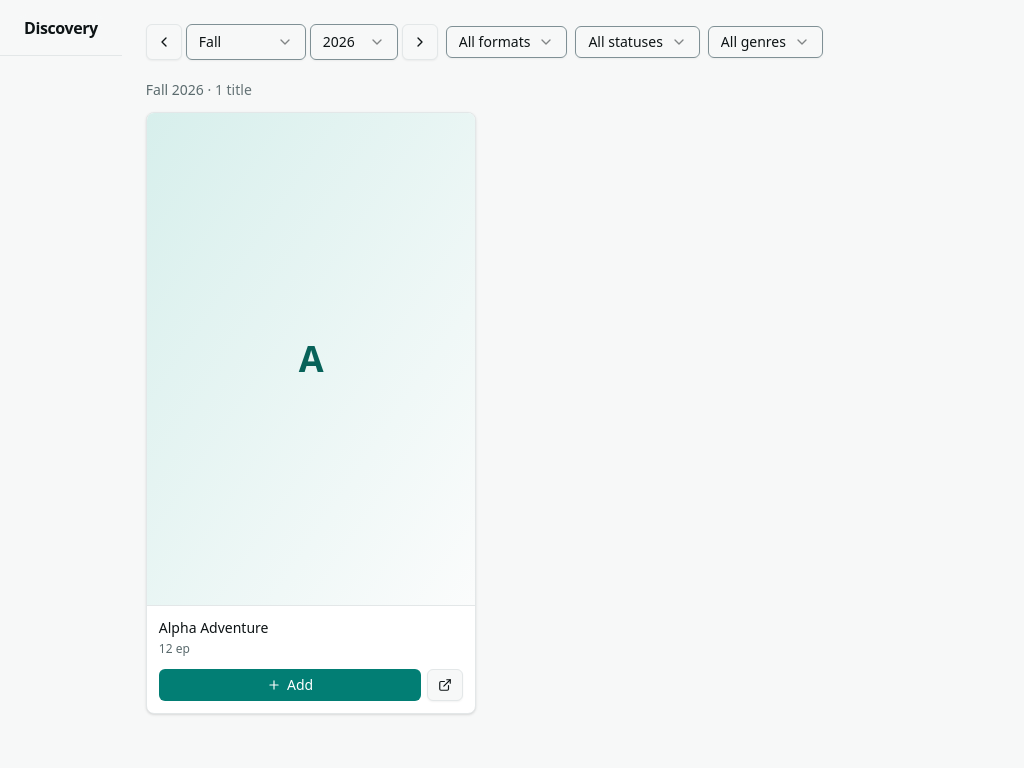
Test case: DiscoveryPage › refetches the chart for a year picked from the year menu
Expected: the text "Alpha Adventure" is shown, x1=159 y1=618 x2=268 y2=637
Click the dropdown named "Year": (354, 42) x1=310 y1=24 x2=398 y2=60
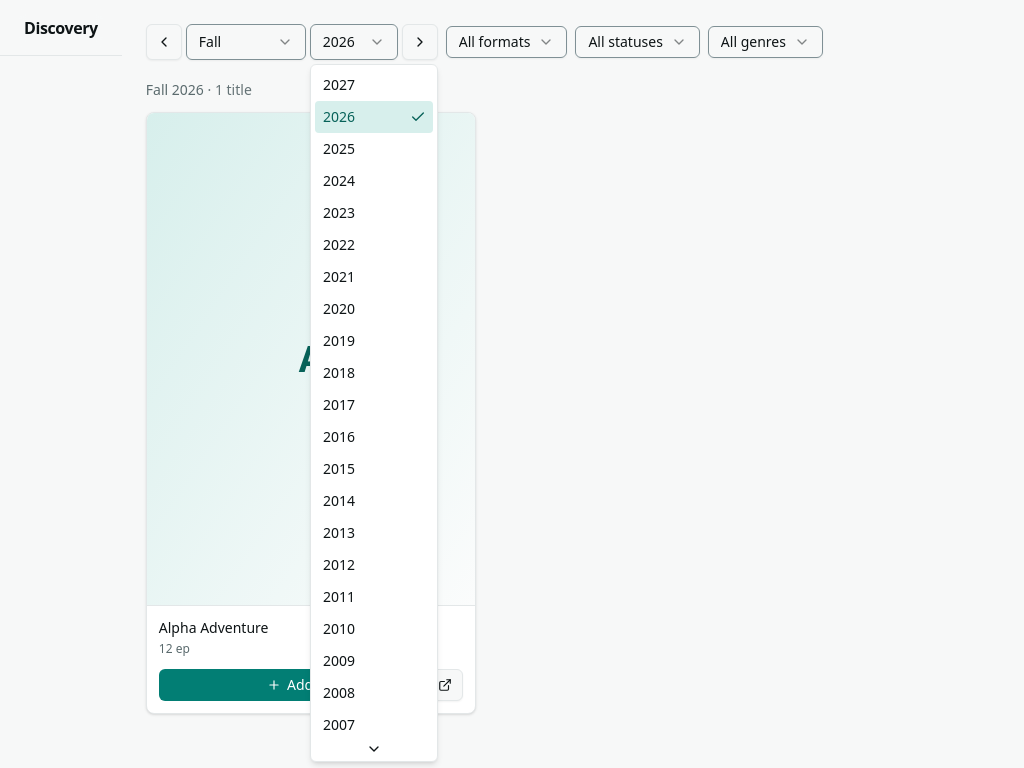
Click the option "2024": (339, 180) x1=323 y1=171 x2=355 y2=190
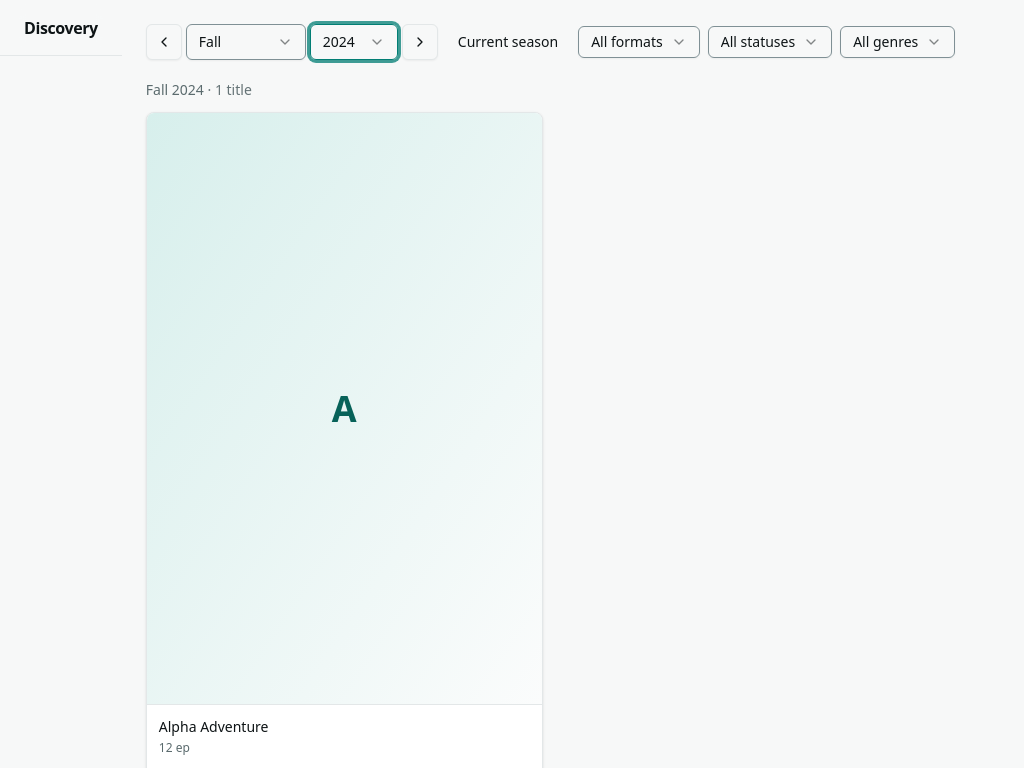
Result: the dropdown named "Year" reads "2024" at x1=310 y1=24 x2=398 y2=60
